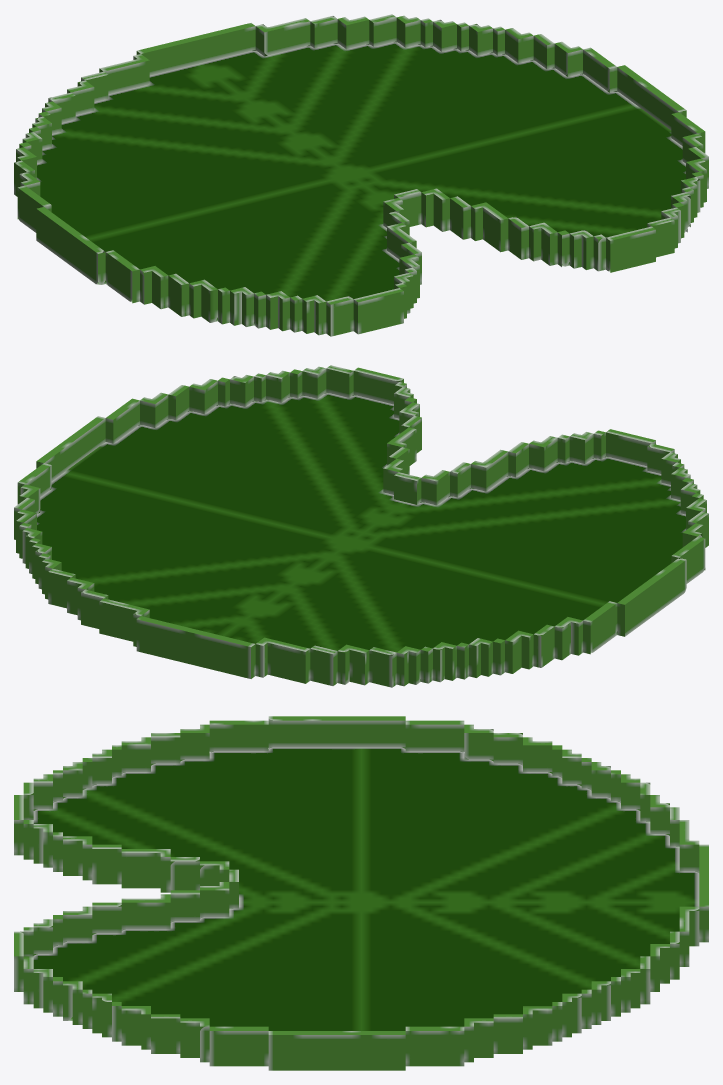
Rendered from VitRegiaGG.fbx.
3 views of the same model, one above another, from view 1: azimuth 30°, elevation 25°; view 2: azimuth 150°, elevation 25°; view 3: azimuth 270°, elevation 25° (orthographic). The views are drawn at different scales.
Visible parts, largest first — view 1: VitRegiaGG.001; view 2: VitRegiaGG.001; view 3: VitRegiaGG.001.
Boxes of the visible parts, x1,y1,x2,y2 form: VitRegiaGG.001: (14,14,708,336); VitRegiaGG.001: (14,365,708,687); VitRegiaGG.001: (14,716,708,1070).
Bounding box in the file's own units: 7.7 × 0.4 × 7.1.
Materials: 1 (1 with a texture image).
